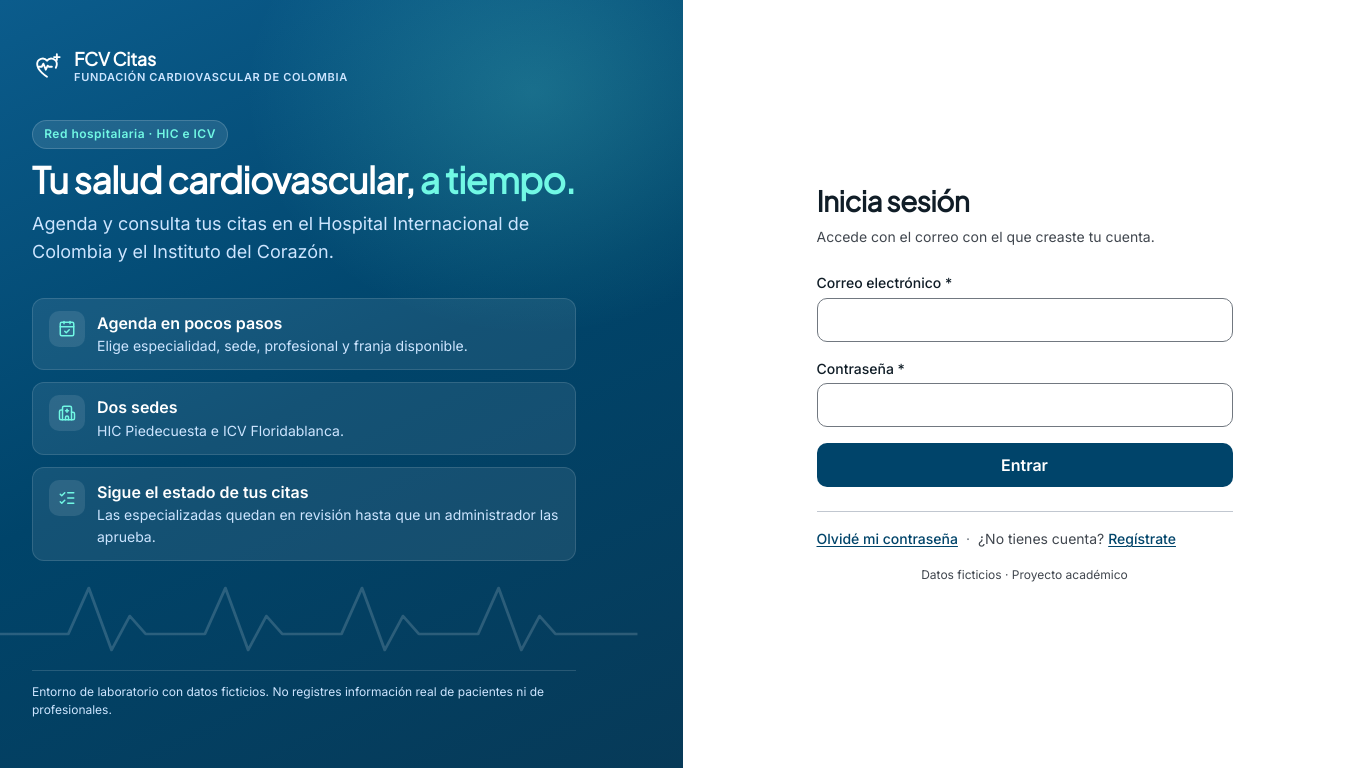
Test: navegación por rol (HU-005 CA-08) › el ADMIN entra a /admin con su panel y su navegación
The image size is (1366, 768).
Type "persona@fcv.test" into the field labelled "Correo electrónico *".
click(1024, 320); type("persona@fcv.test")  # box [816,298,1232,342]
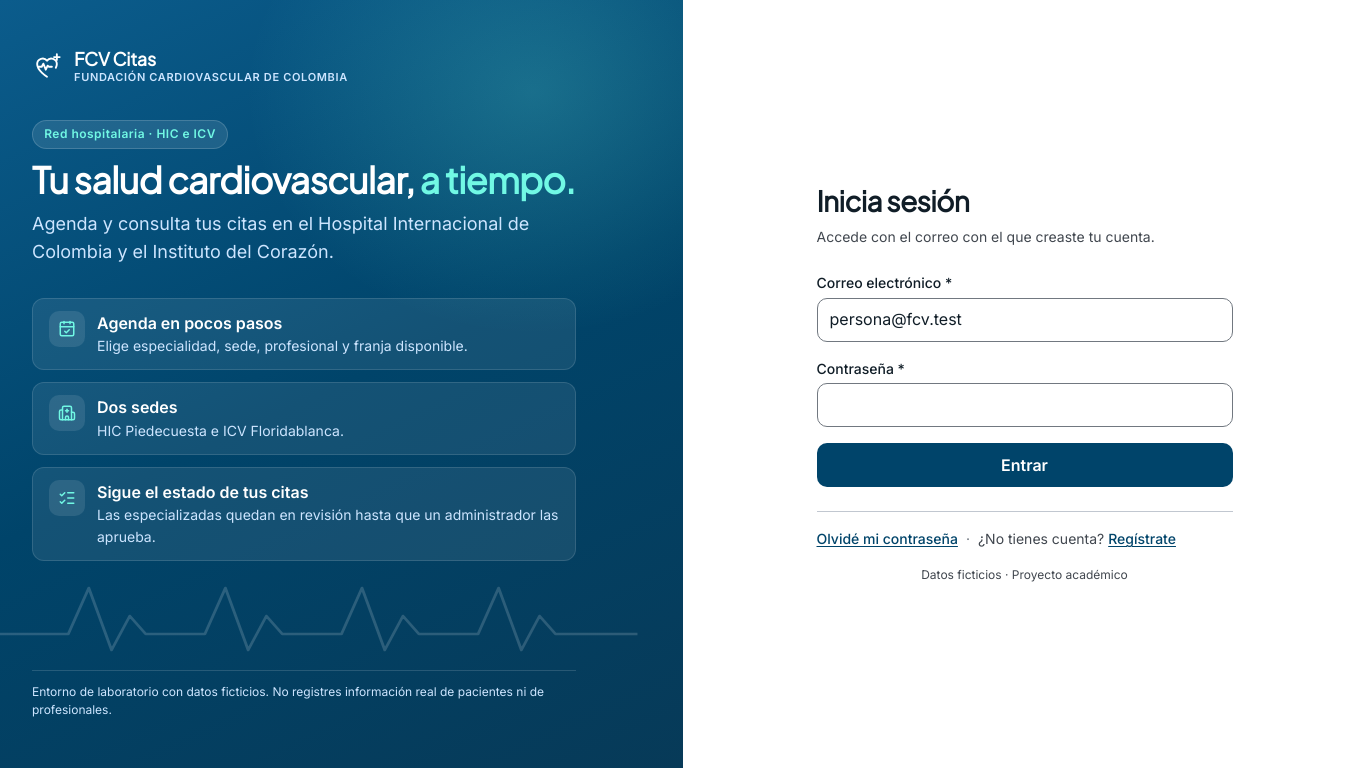
Type "Clave-Secreta#2026" into the password field labelled "Contraseña *".
click(1024, 405); type("Clave-Secreta#2026")  # box [816,383,1232,427]
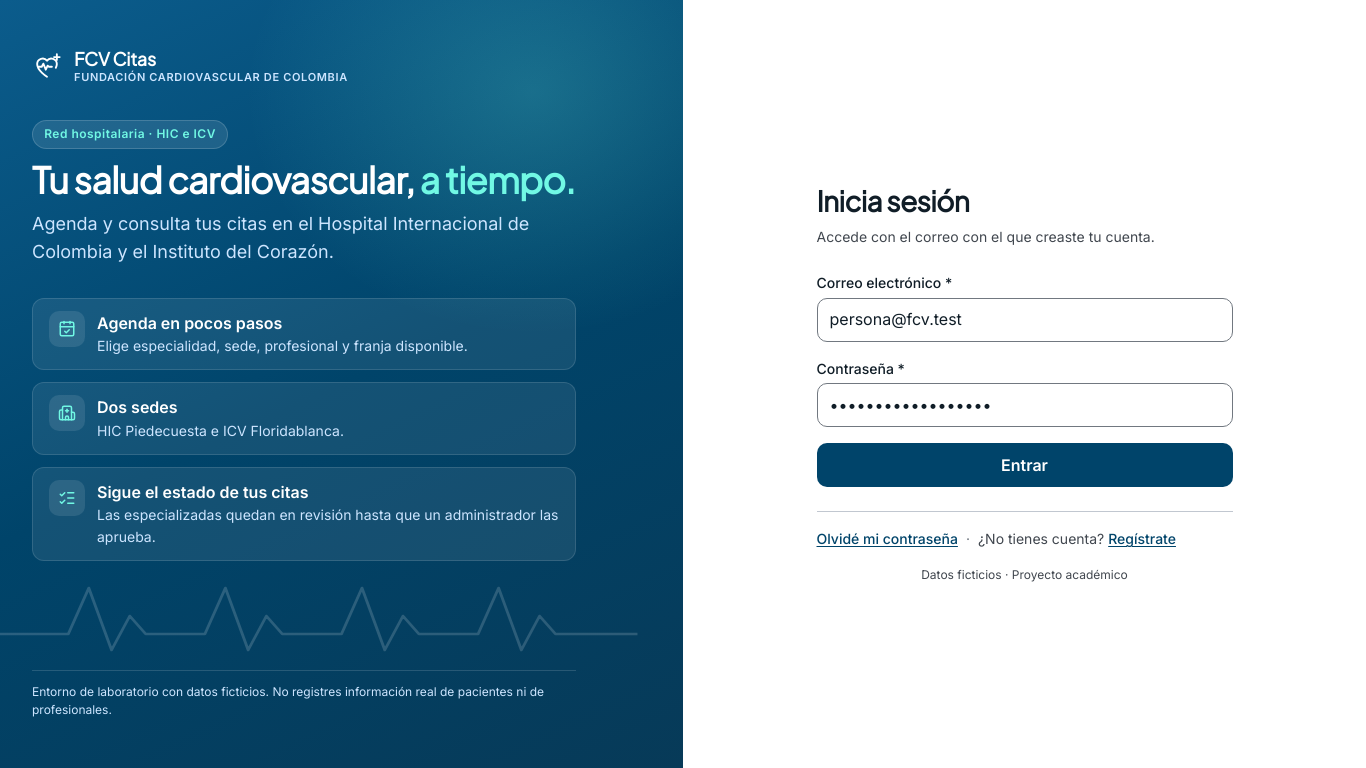
Click the button "Entrar".
click(1024, 465)  # box [816,443,1232,487]
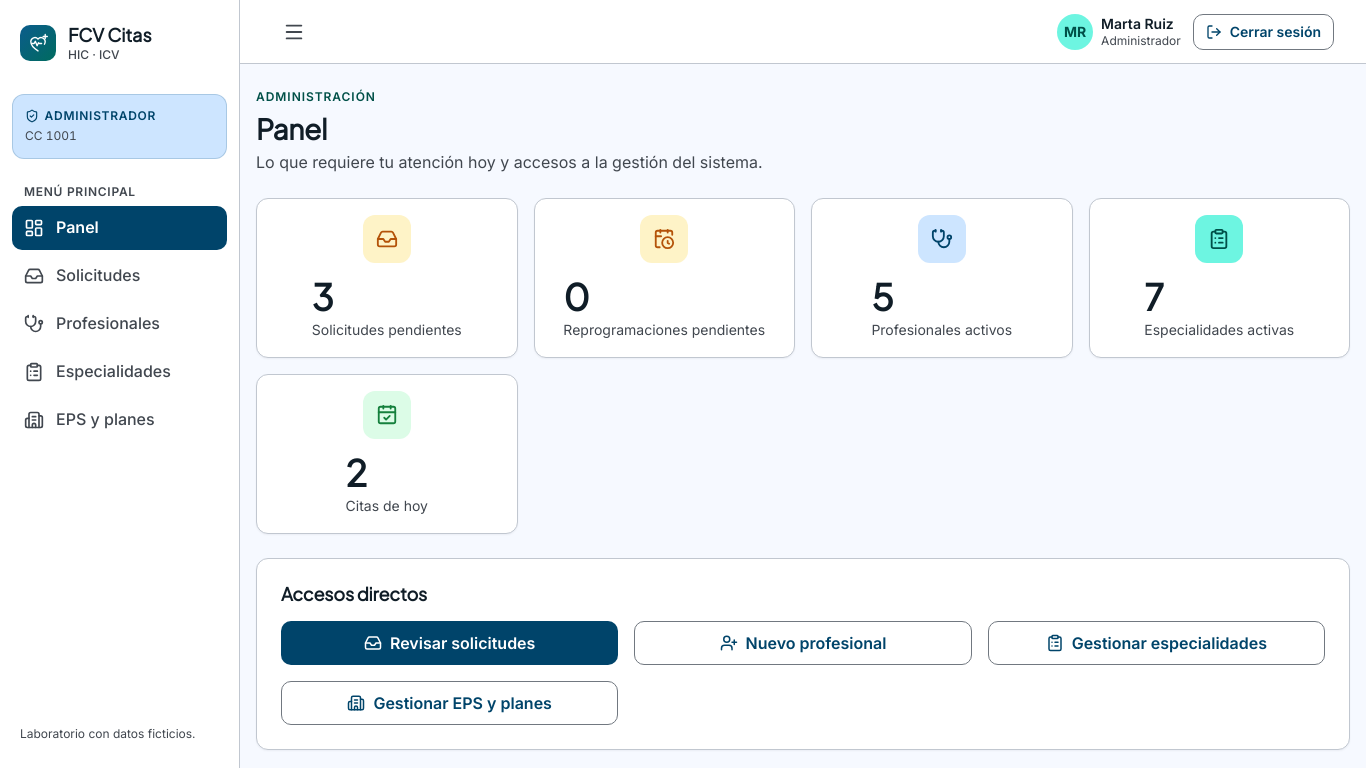
Now the text "Marta Ruiz" is shown, box [1101,15,1181,33]
Now the text "Solicitudes pendientes" is shown, box [312,319,462,341]
